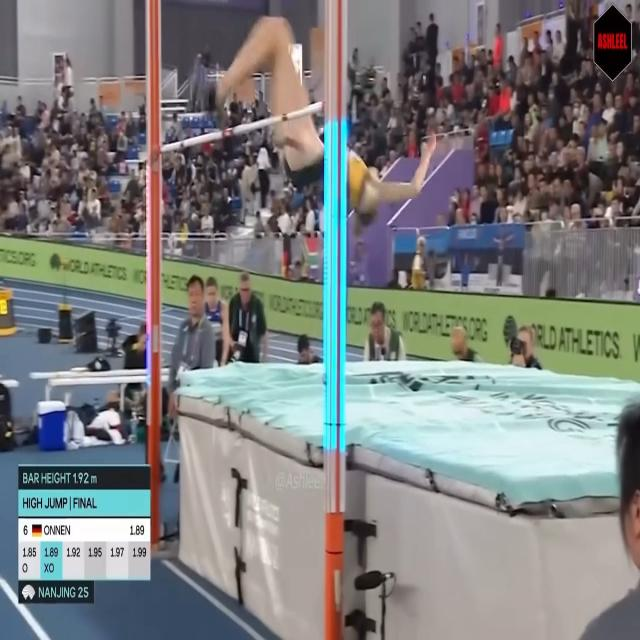land: (186, 12, 437, 228)
